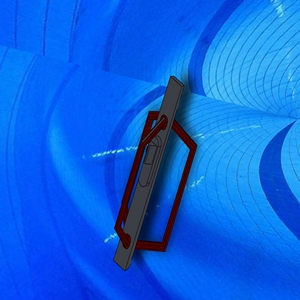submarine: (103, 70, 206, 273)
